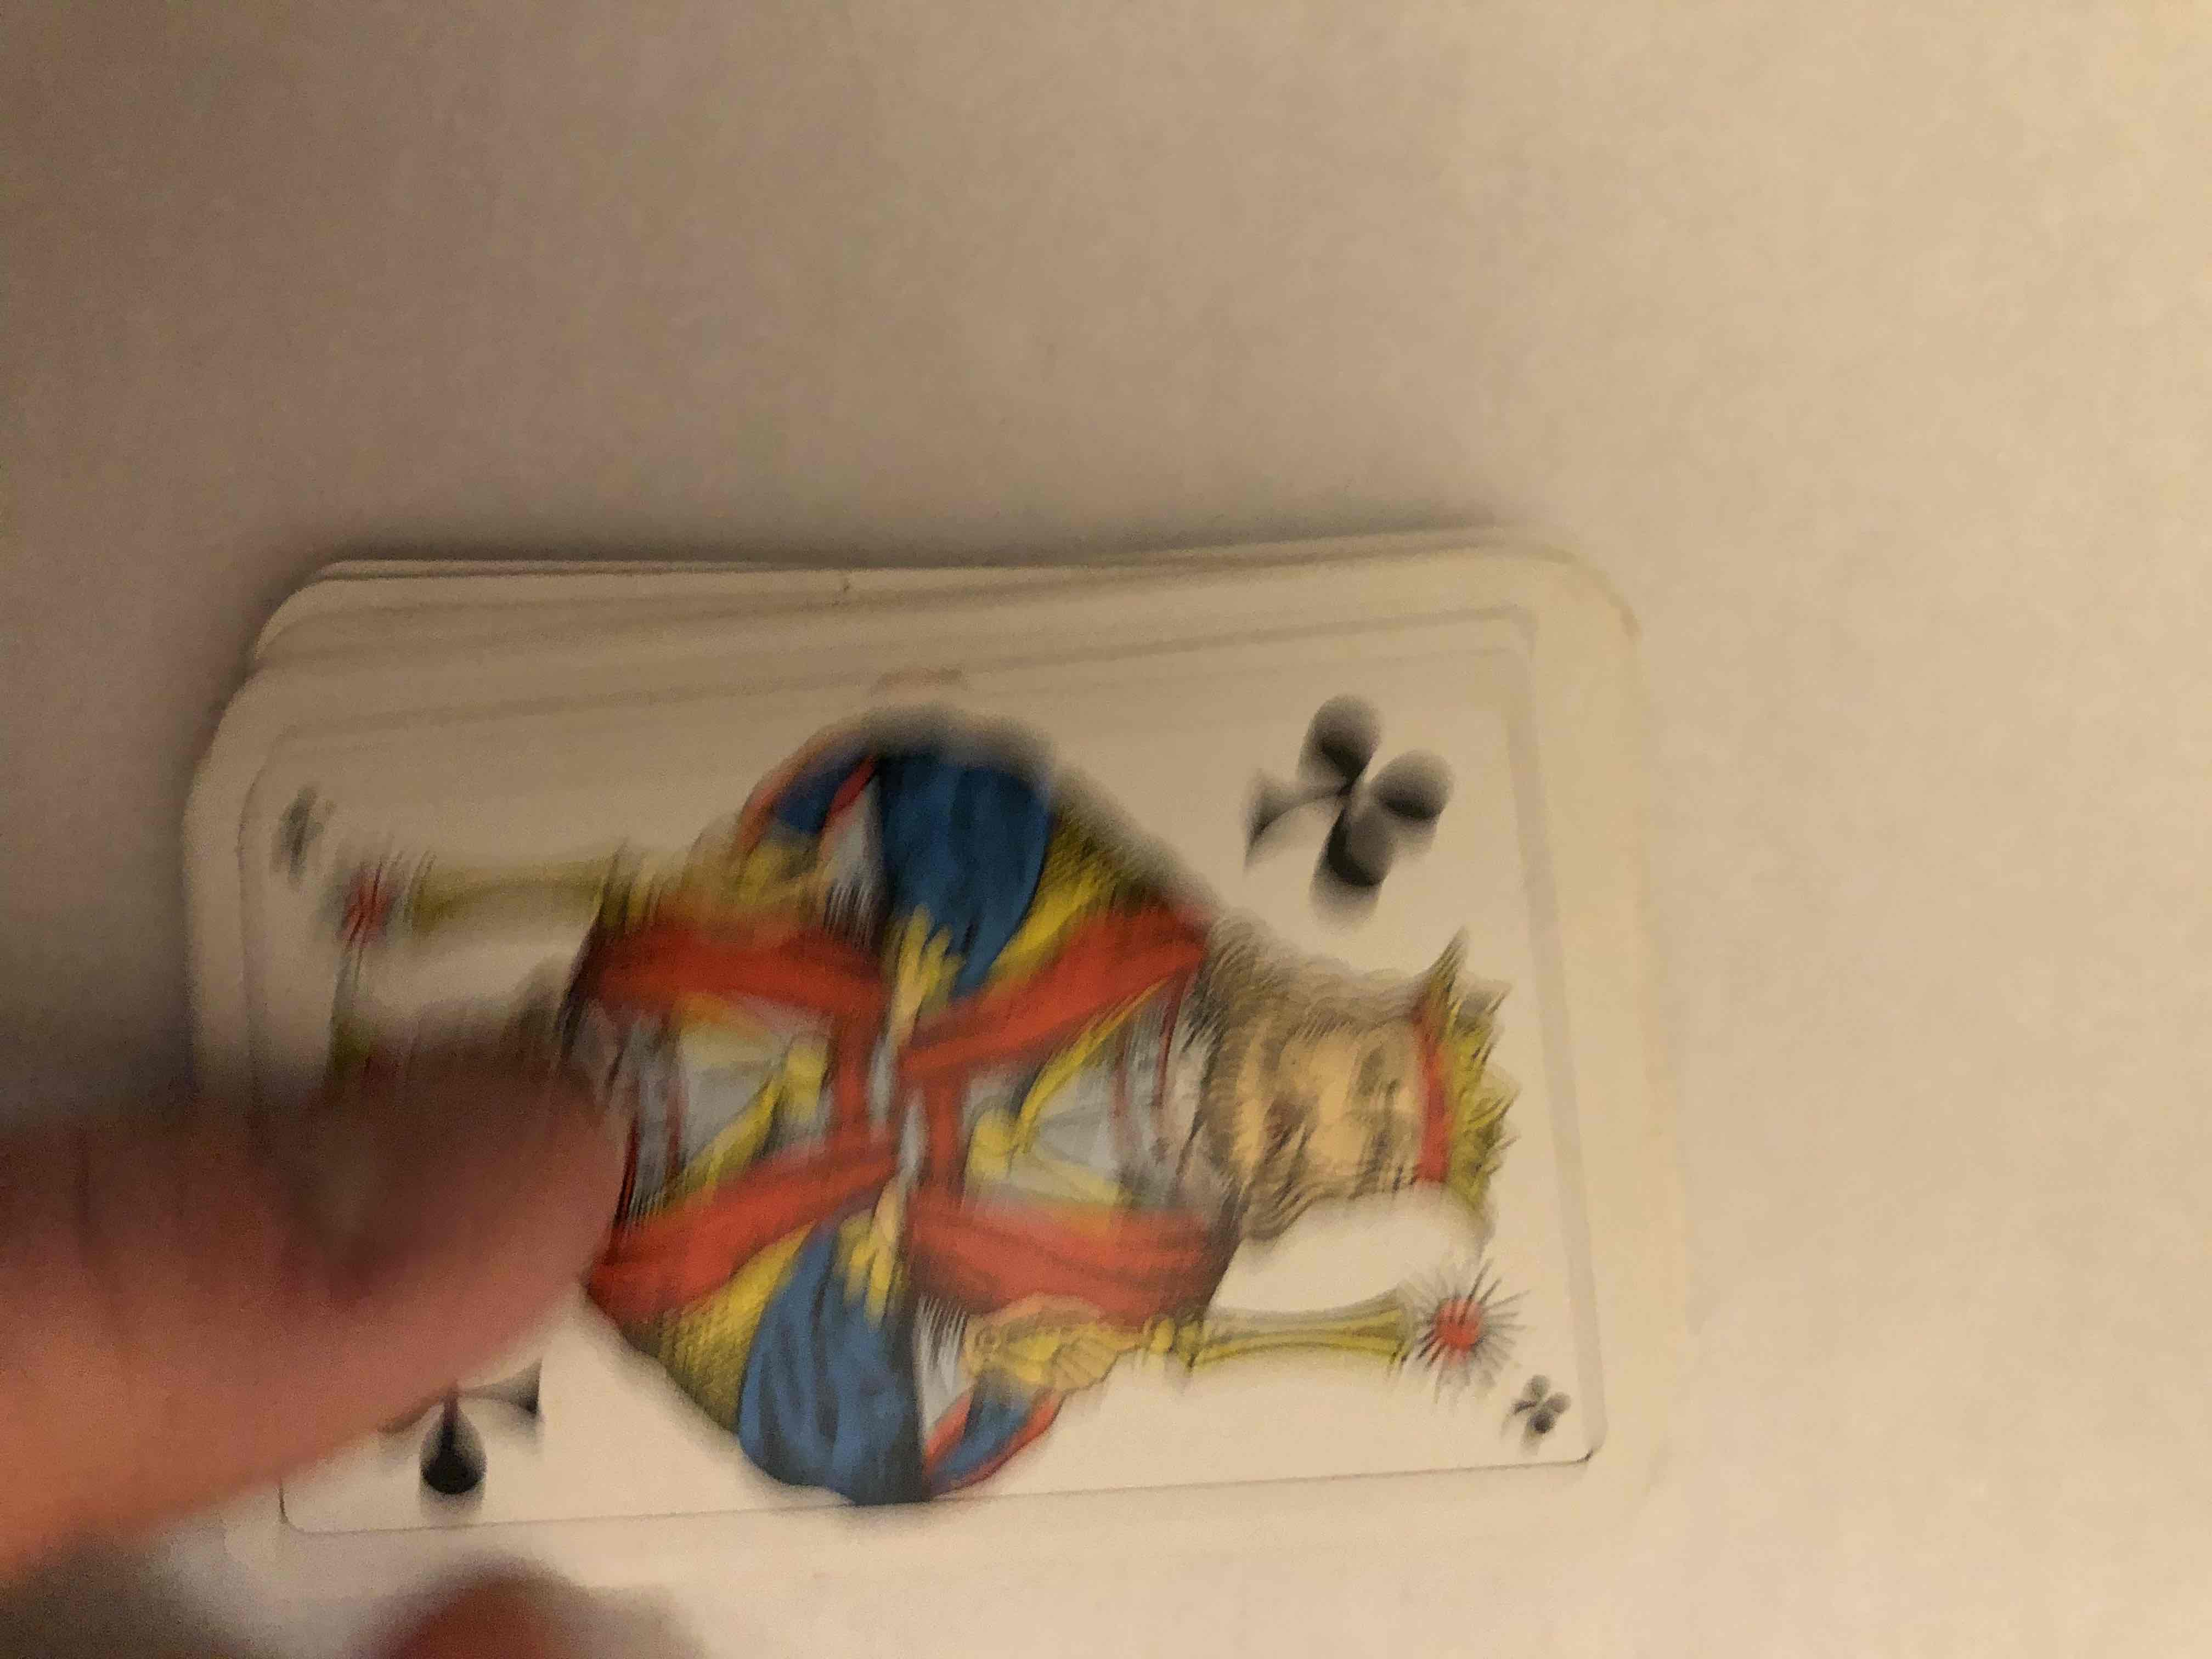clubsKing: (193, 603, 1719, 1568)
